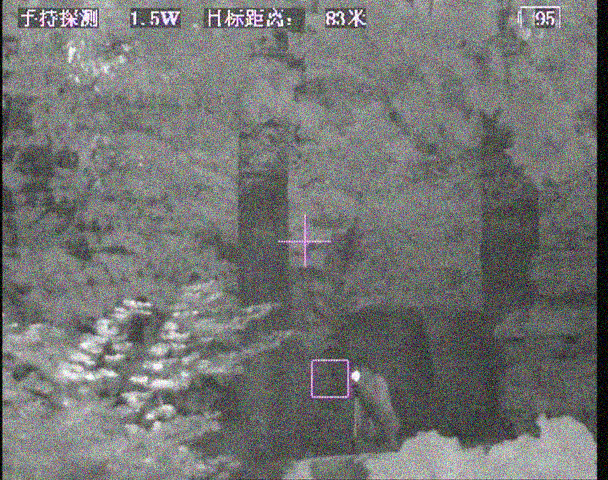my: (350, 369, 364, 383)
